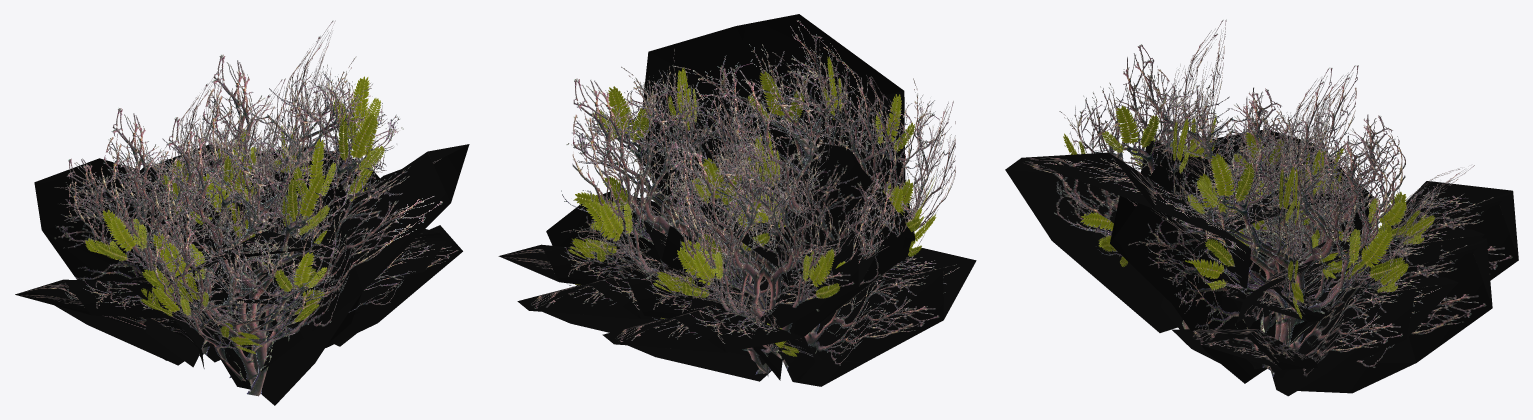
The model's file is africanThornbush_01.DAE.
3 renders of one model, left to right at view 1: azimuth 30°, elevation 25°; view 2: azimuth 150°, elevation 25°; view 3: azimuth 270°, elevation 25°, orthographic.
Visible parts, largest first — view 1: africanThornBushOne256, africanThornBushOne128; view 2: africanThornBushOne256, africanThornBushOne128; view 3: africanThornBushOne256, africanThornBushOne128.
Boxes of the visible parts, bbox=[...] form: africanThornBushOne256: bbox=[16, 20, 468, 405]; africanThornBushOne128: bbox=[15, 20, 469, 388]; africanThornBushOne256: bbox=[500, 14, 975, 386]; africanThornBushOne128: bbox=[498, 38, 976, 372]; africanThornBushOne256: bbox=[1005, 20, 1518, 396]; africanThornBushOne128: bbox=[1005, 19, 1518, 374].
Size of the model in its own units: 5.33 by 5.72 by 3.69.
